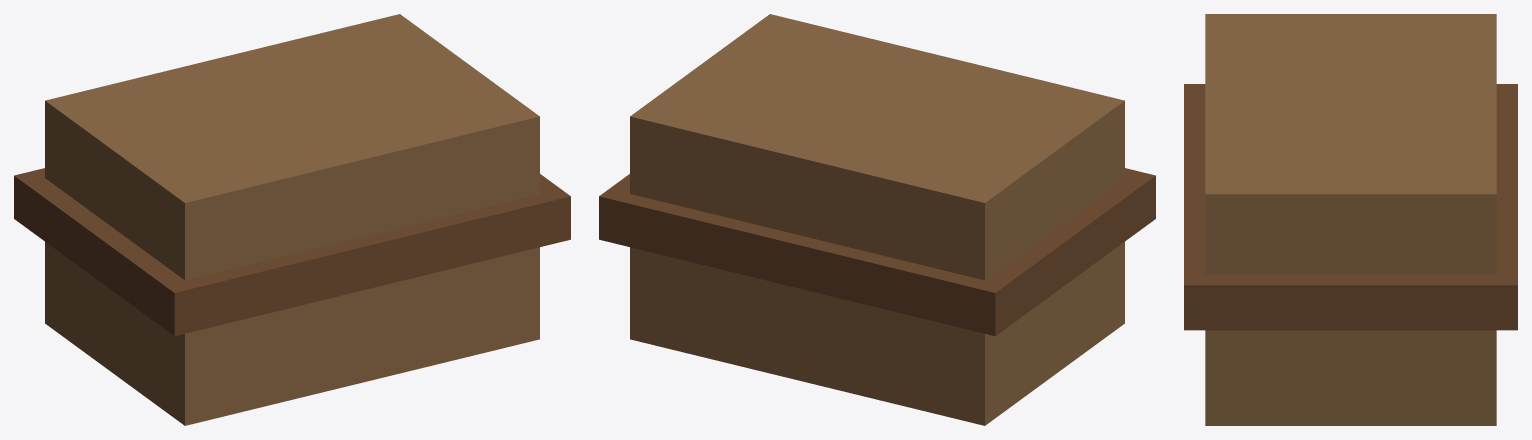
Rendered from floating-crate.glb.
3 views of the same model, side by side, from view 1: azimuth 30°, elevation 25°; view 2: azimuth 150°, elevation 25°; view 3: azimuth 270°, elevation 25° (orthographic). The views are drawn at different scales.
Visible parts, largest first — view 1: CrateBody, CrateLid; view 2: CrateBody, CrateLid; view 3: CrateBody, CrateLid.
Boxes of the visible parts, left/top/right/bottom form: CrateBody: left=45, top=14, right=539, bottom=425; CrateLid: left=14, top=168, right=570, bottom=336; CrateBody: left=630, top=14, right=1124, bottom=425; CrateLid: left=599, top=168, right=1155, bottom=336; CrateBody: left=1205, top=14, right=1496, bottom=425; CrateLid: left=1184, top=84, right=1517, bottom=330.
Bounding box in the file's own units: 1.34 × 0.72 × 0.94.
